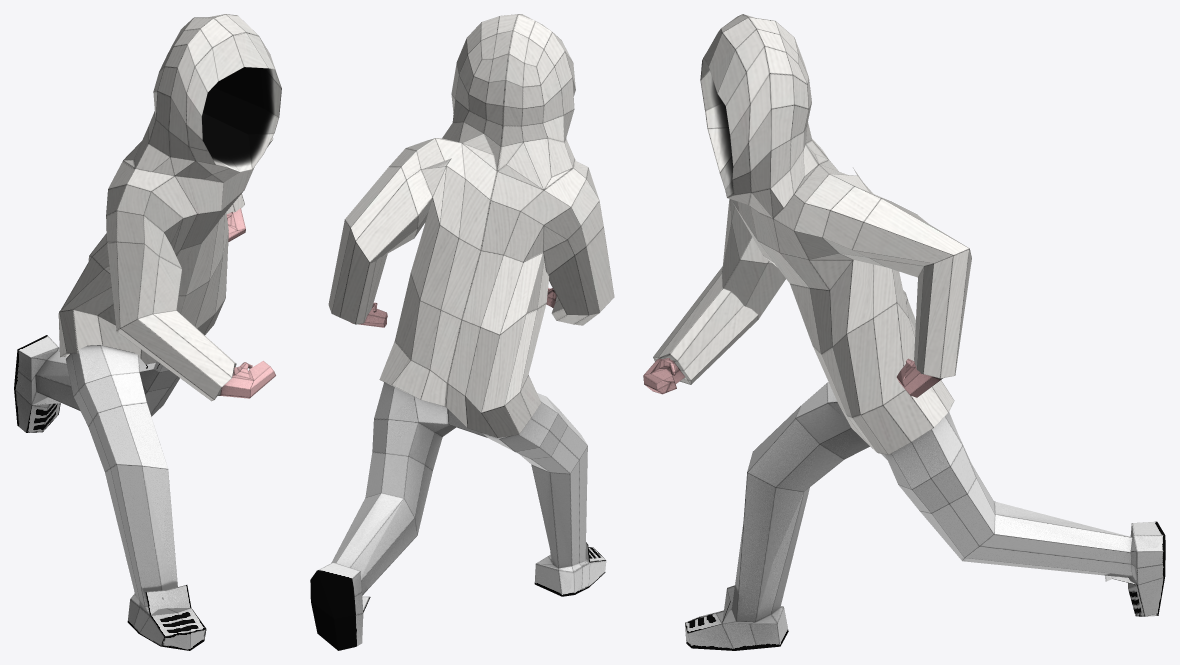
File: Shadowmanv_000005.obj
3 views of the same model, side by side, from view 1: azimuth 30°, elevation 25°; view 2: azimuth 150°, elevation 25°; view 3: azimuth 270°, elevation 25° (orthographic). The views are drawn at different scales.
Parts seen in each view (by area): view 1: Cube.000; view 2: Cube.000; view 3: Cube.000.
Part boxes in pixels (x1,y1,x2,y2): Cube.000: [14, 14, 281, 650]; Cube.000: [310, 14, 614, 650]; Cube.000: [643, 14, 1165, 650].
Bounding box in the file's own units: 4.01 × 10.77 × 7.78.
